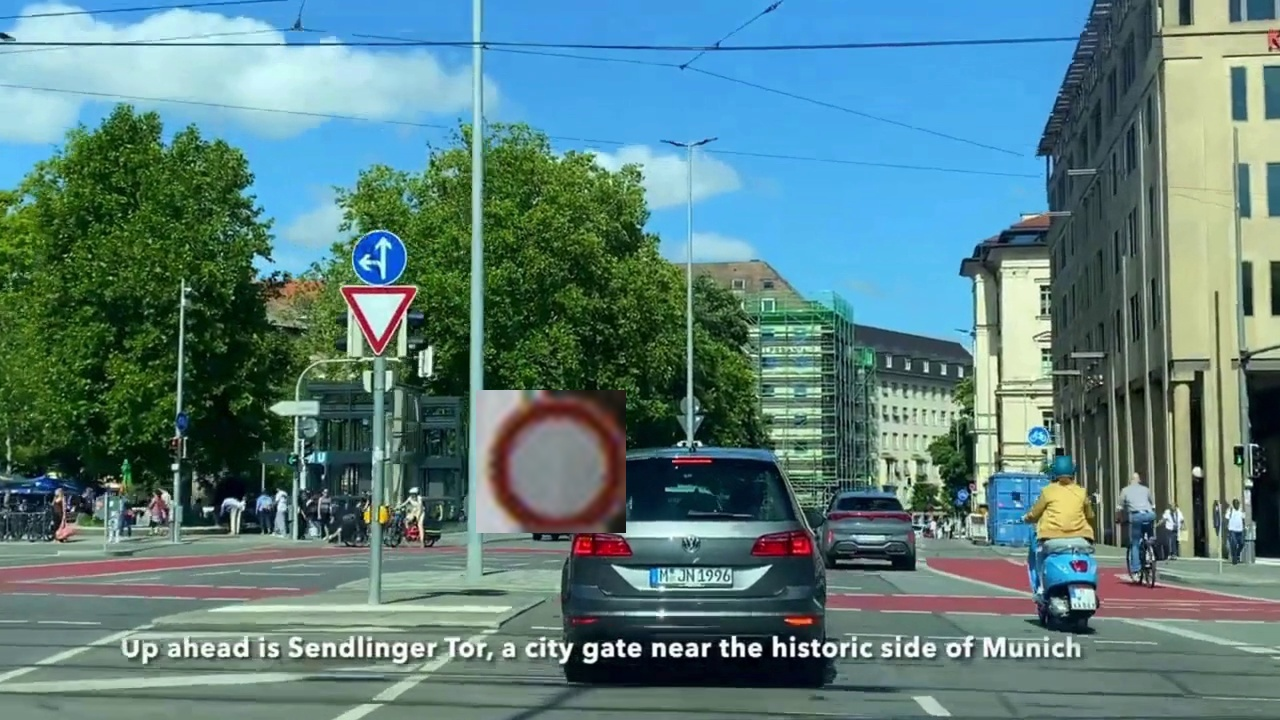No vehicles: (476, 390, 626, 533)
